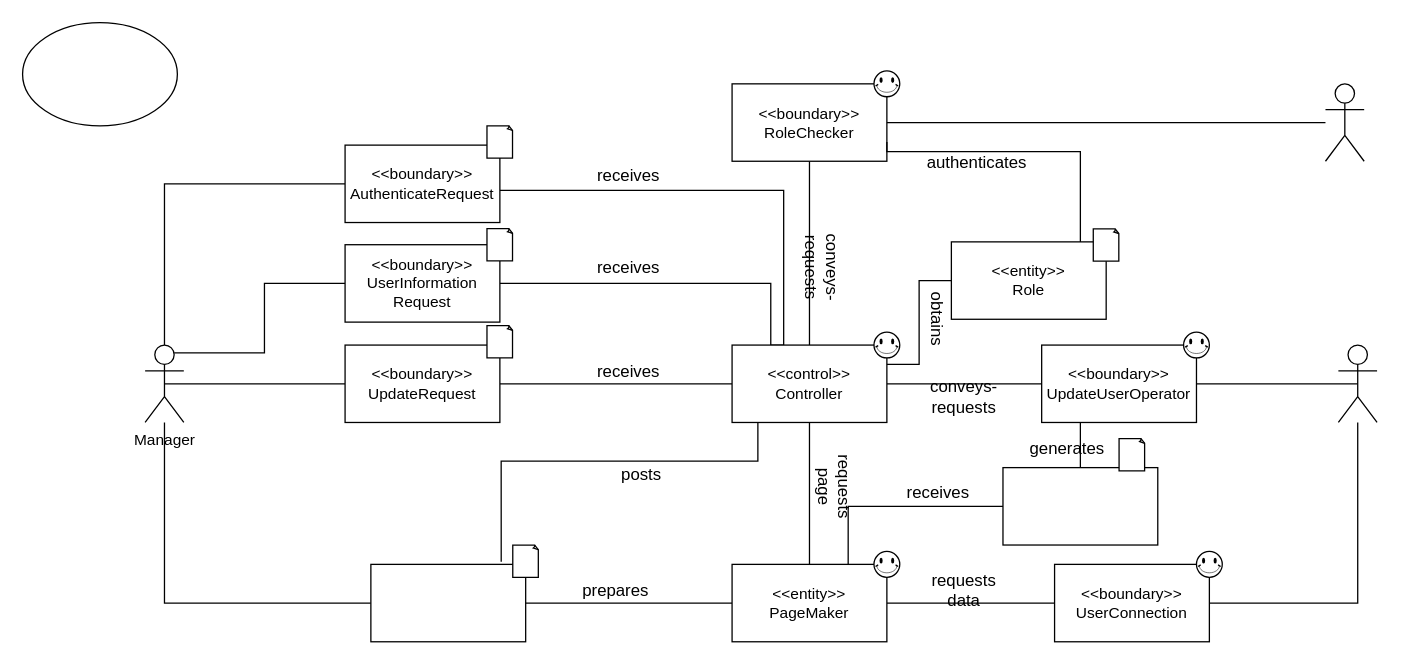
Image size: 1413x664. Some labels were removed from this diagram. The centre of each missing label's shape, as x and y in pixels:
<<boundary>> InterfacePage: pixel 448 602
<<entity>> RedirectRequest: pixel 1080 505
Authenticator: pixel 1344 122
UC-8 UpdateUser: pixel 99 73
User: pixel 1357 383
